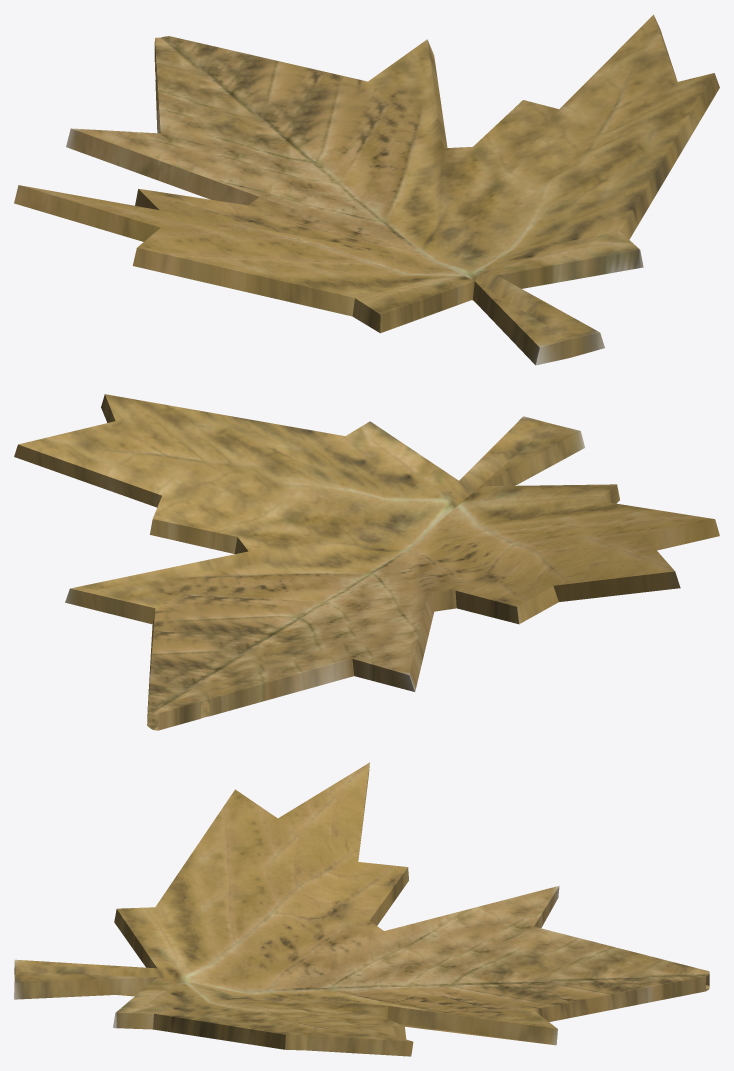
File: MapleLeaf1.fbx
3 views of the same model, one above another, from view 1: azimuth 30°, elevation 25°; view 2: azimuth 150°, elevation 25°; view 3: azimuth 270°, elevation 25° (orthographic). The views are drawn at different scales.
Visible parts, largest first — view 1: pPlane3; view 2: pPlane3; view 3: pPlane3.
Part boxes in pixels (x1,y1,x2,y2): pPlane3: [14, 14, 719, 365]; pPlane3: [14, 394, 719, 730]; pPlane3: [14, 762, 709, 1056].
Bounding box in the file's own units: 11.68 × 2.07 × 12.66.
